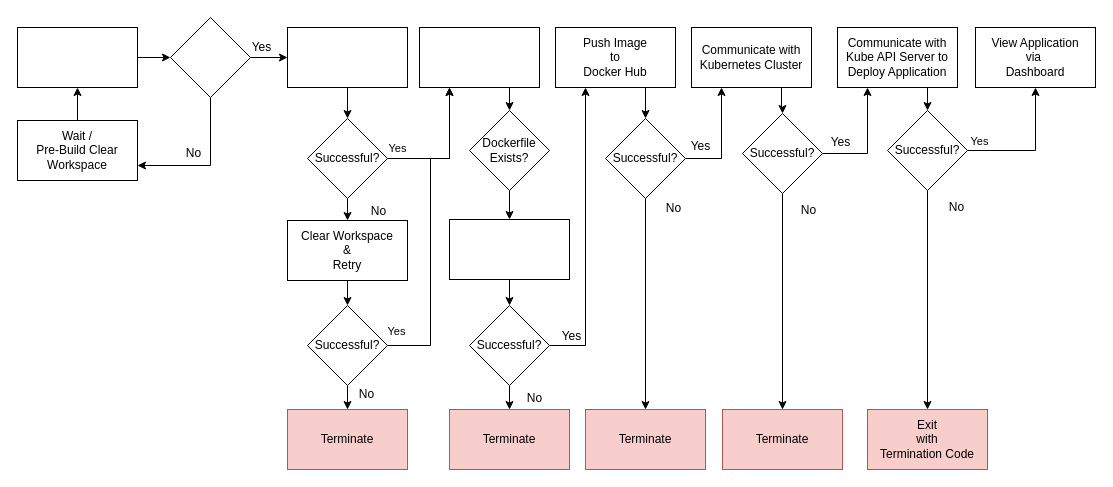
Some shapes in this 1113 by 487 pixel diagram are drawn without their labels. Here are the shapes that lost their labels. From the top down, the box of each, then its label:
(16, 26, 138, 88): Start
(170, 16, 250, 98): ready ?
(286, 26, 408, 88): Clone Repository from Github
(418, 26, 540, 88): Docker Build
(448, 218, 570, 280): Docker Image Creation
